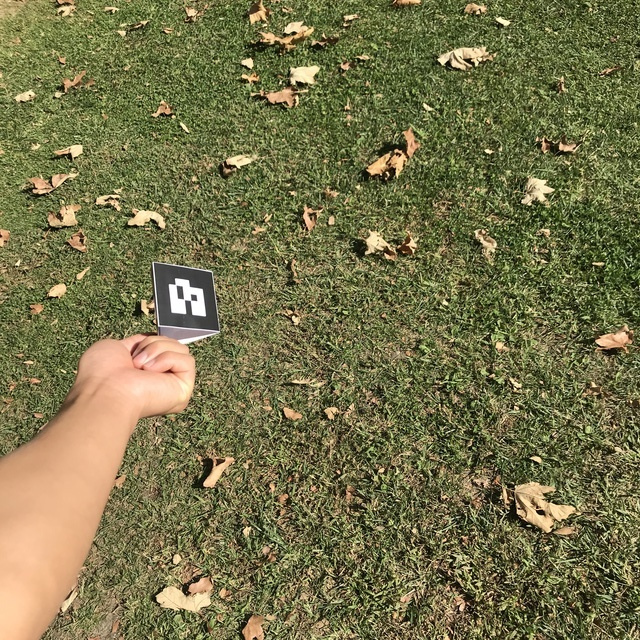ARTag: (150, 261, 220, 347)
